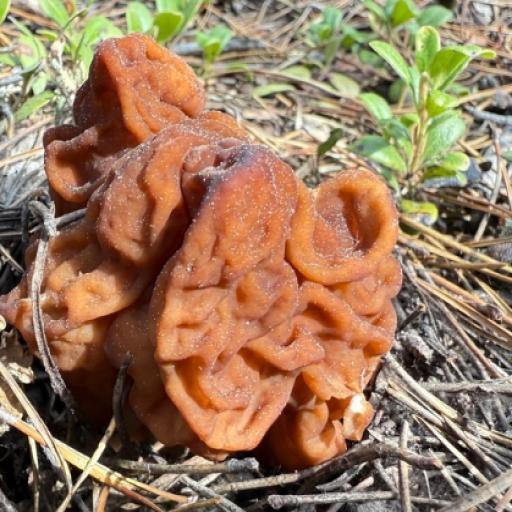mushroom: (45, 32, 406, 461)
